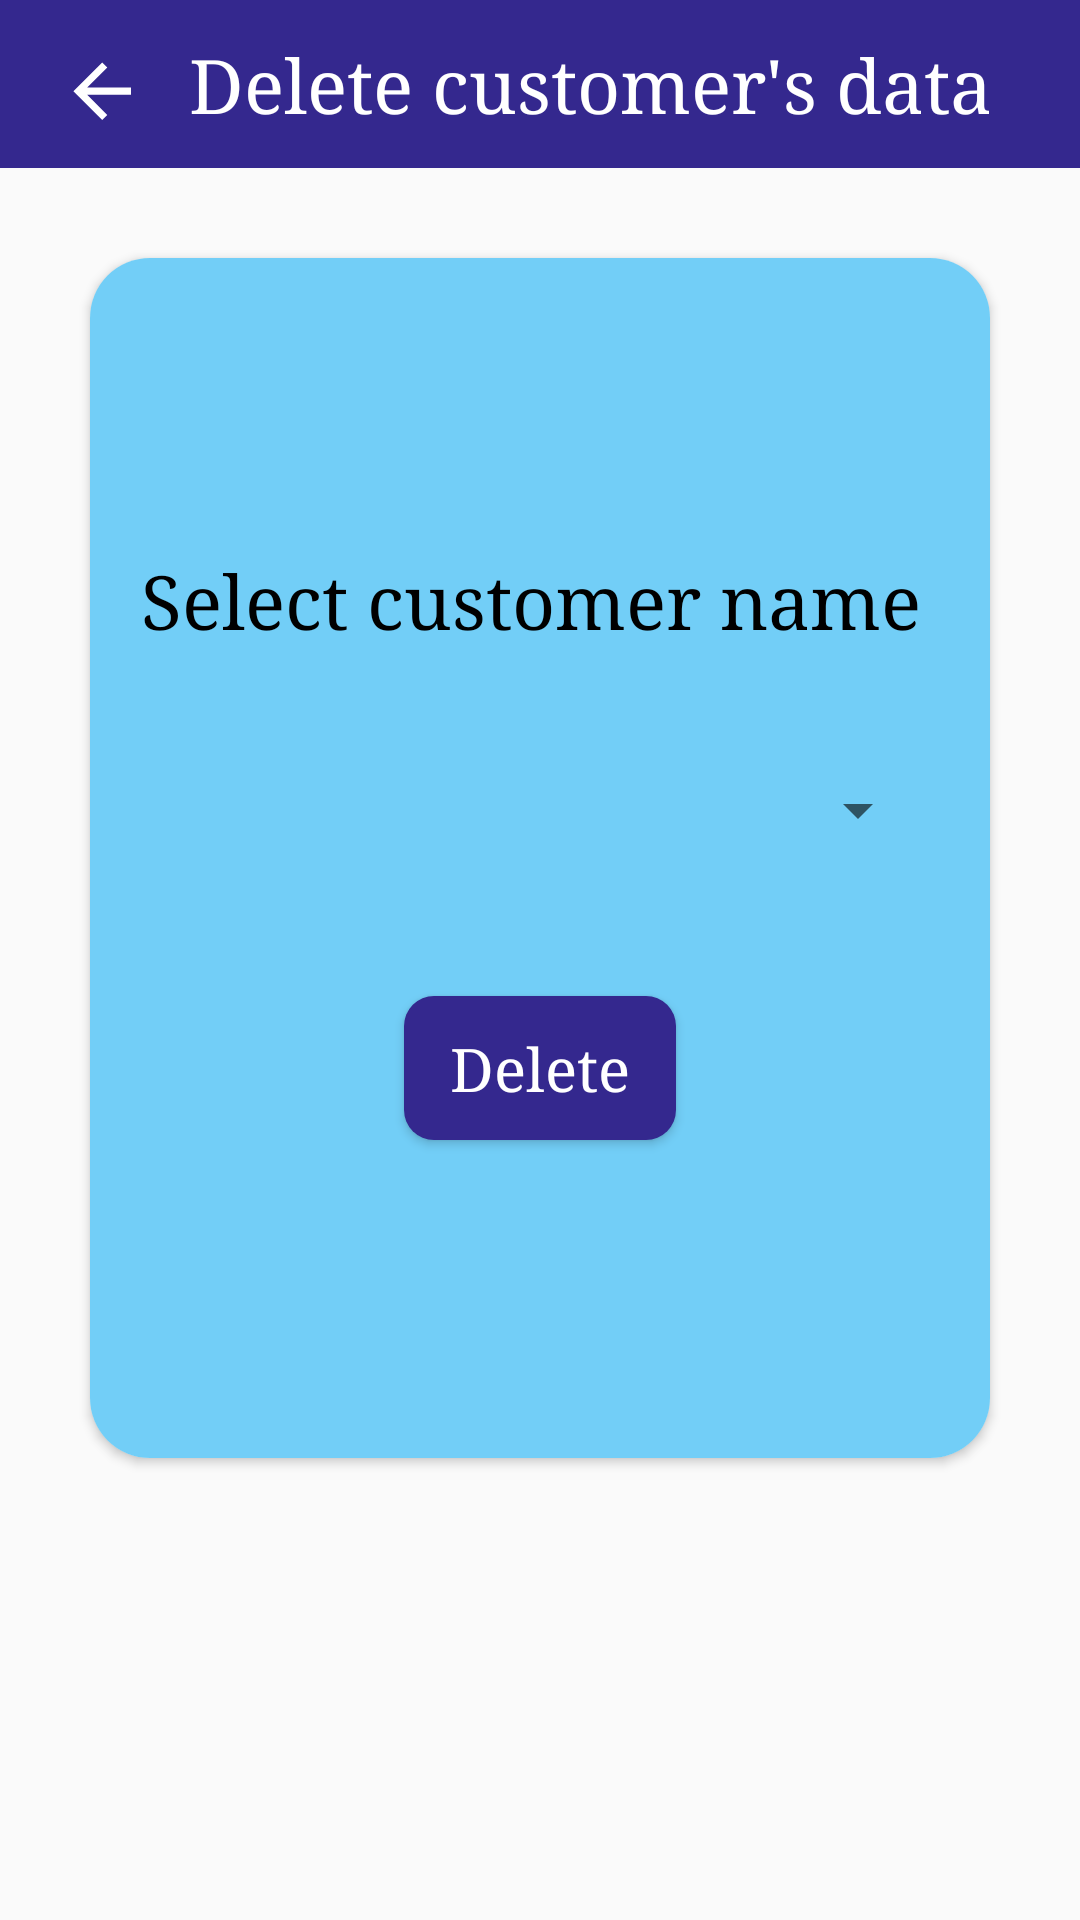

Where to tap for icons on this 1080px x 1920px app screen, as point (x, y):
arrow back: point (102, 91)
